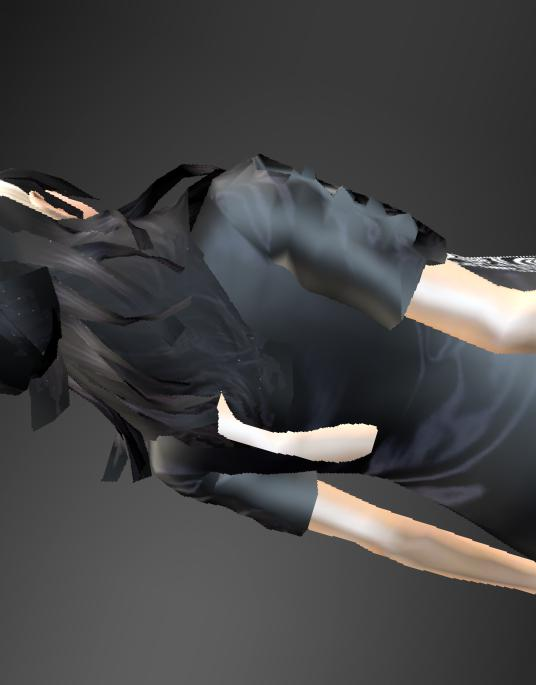clip: (191, 398, 260, 446)
